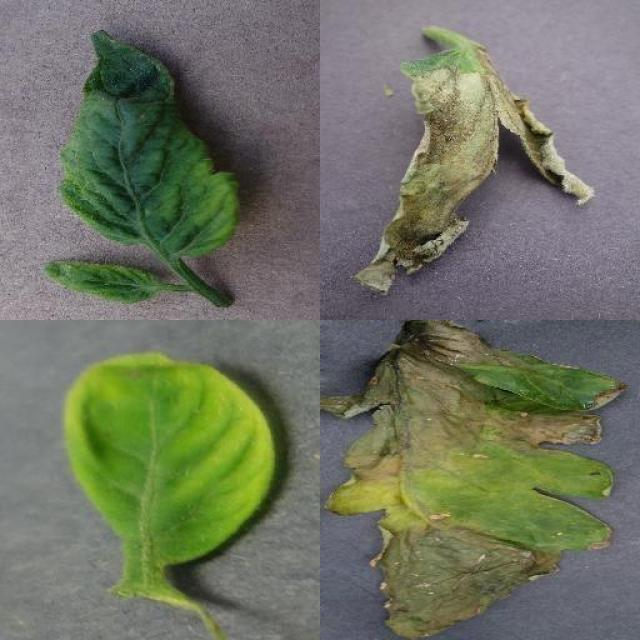Late Blight: (320, 320, 628, 640), (352, 45, 596, 300)
